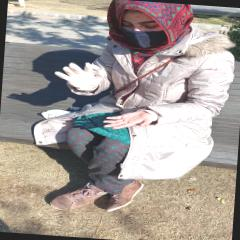gloved: (55, 61, 108, 90)
not-gloved: (102, 108, 154, 132)
